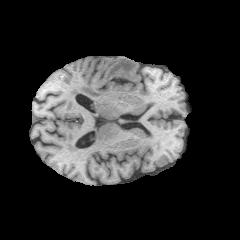glioma: (73, 57, 144, 98)
